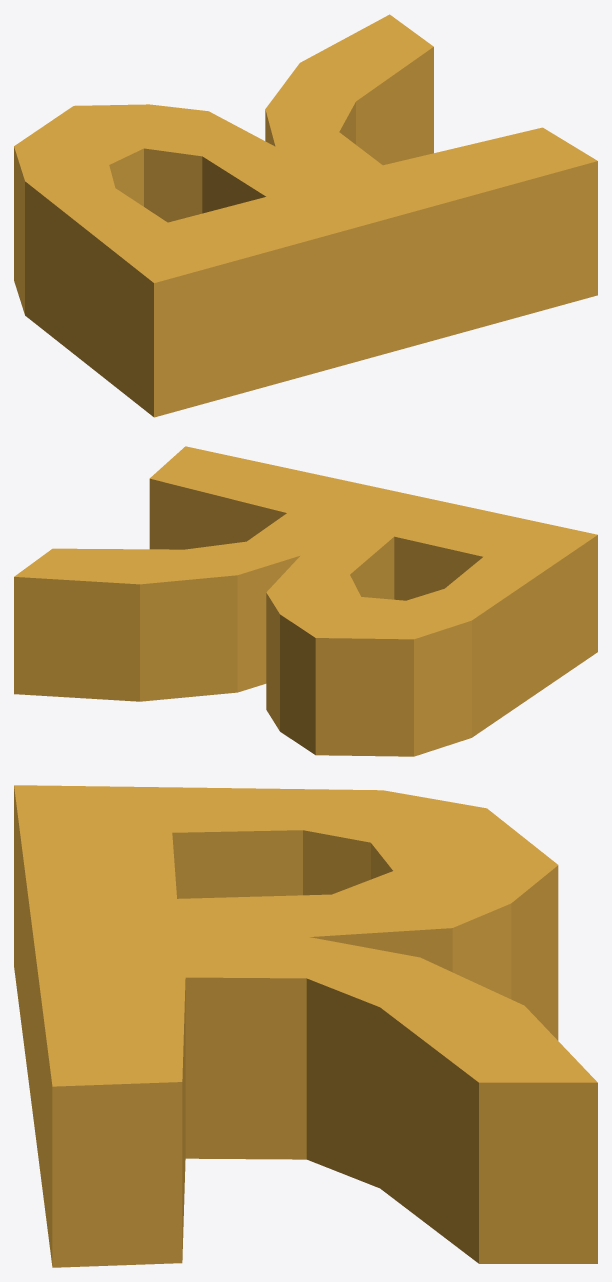
The model's file is letter_r.fbx.
The picture shows the model from 3 angles, top to bottom: view 1: azimuth 30°, elevation 25°; view 2: azimuth 150°, elevation 25°; view 3: azimuth 270°, elevation 25°; orthographic projection. The views are drawn at different scales.
Visible parts, largest first — view 1: R; view 2: R; view 3: R.
Boxes of the visible parts, x1,y1,x2,y2 form: R: [14, 14, 597, 417]; R: [14, 446, 597, 756]; R: [14, 785, 597, 1267].
Bounding box in the file's own units: 539 × 151 × 441.
